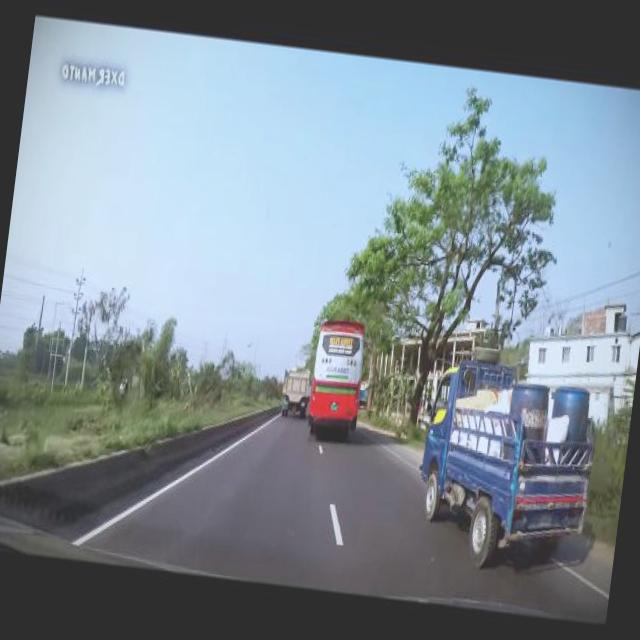bus: (308, 314, 370, 434)
truck: (409, 352, 606, 580), (280, 362, 314, 415)
